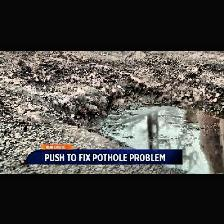pothole: (56, 75, 224, 174)
